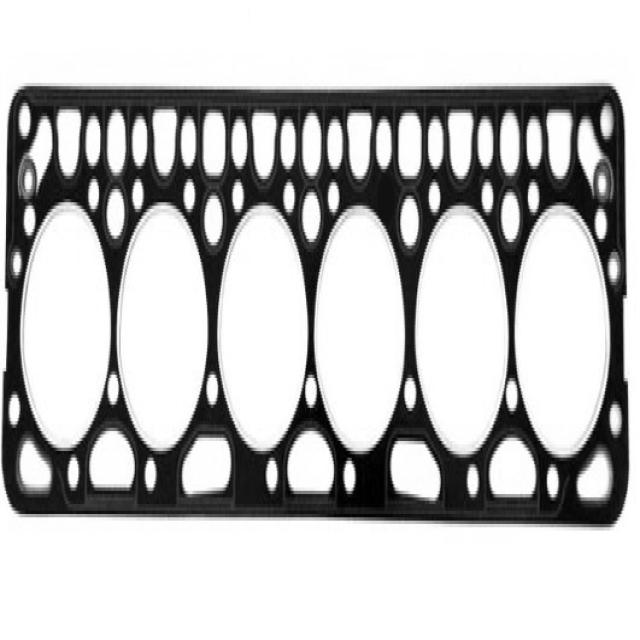missing hole: (376, 156, 394, 232)
